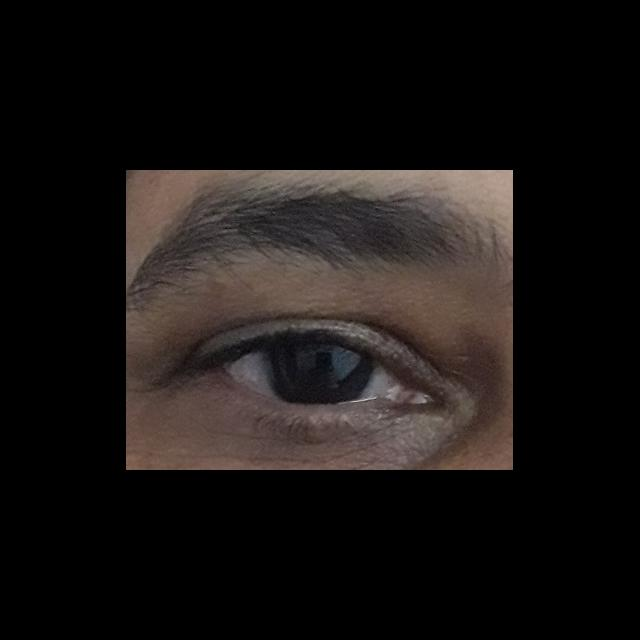eye: (222, 339, 397, 407)
iris: (264, 342, 377, 402)
